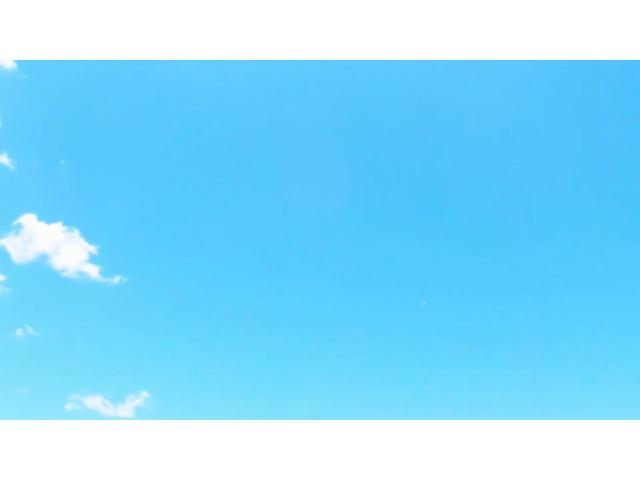Anti-Drone: (416, 298, 436, 312)
